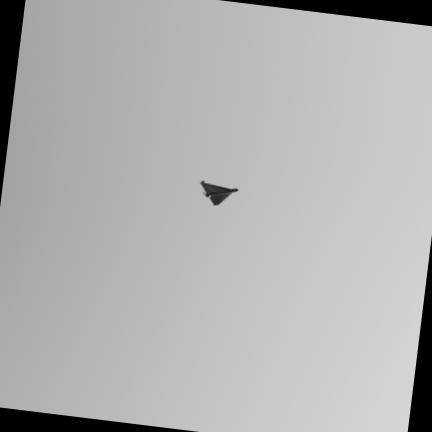Shahed: (200, 180, 238, 204)
